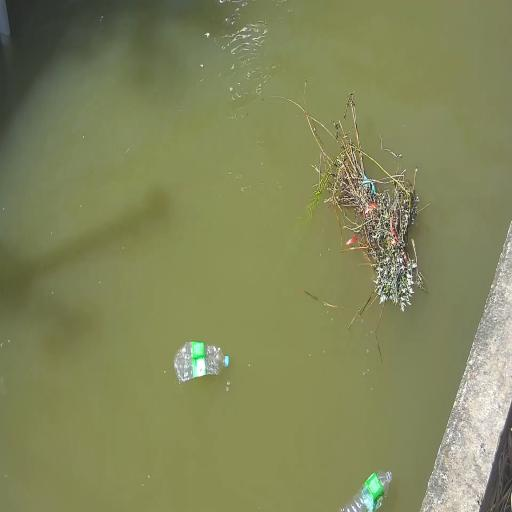plastic: (174, 341, 229, 382), (340, 472, 391, 511), (224, 356, 229, 367)
twig: (273, 80, 425, 335)
